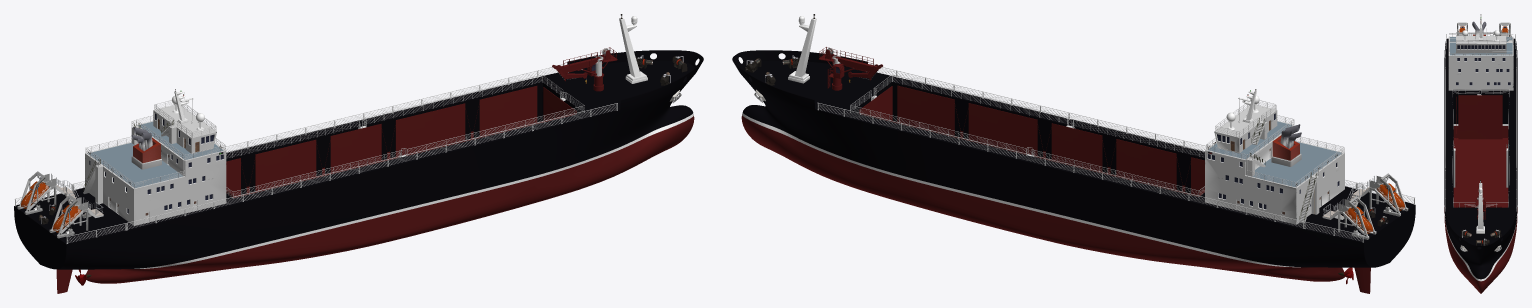
Rendered from cargo_ship_empty.glb.
3 views of the same model, side by side, from view 1: azimuth 30°, elevation 25°; view 2: azimuth 150°, elevation 25°; view 3: azimuth 270°, elevation 25° (orthographic). The views are drawn at different scales.
Visible parts, largest first — view 1: Object_70, Object_47, Object_22, Object_57, Object_44, Object_18, Object_34, Object_13, Object_68, Object_58, Object_55, Object_37 (+5 smaller); view 2: Object_70, Object_47, Object_22, Object_57, Object_18, Object_34, Object_44, Object_13, Object_68, Object_55, Object_58, Object_37 (+6 smaller); view 3: Object_70, Object_47, Object_22, Object_44, Object_13, Object_34, Object_39, Object_18, Object_57, Object_37, Object_61, Object_68 (+9 smaller).
Boxes of the visible parts, x1,y1,x2,y2 form: Object_70: (14,50,703,269); Object_47: (86,51,694,283); Object_22: (85,105,226,225); Object_57: (15,64,617,243); Object_44: (56,47,616,293); Object_18: (87,121,223,187); Object_34: (24,16,693,268); Object_13: (85,100,225,188); Object_68: (17,56,603,238); Object_58: (362,74,563,127); Object_55: (401,91,584,156); Object_37: (177,17,652,102); Object_70: (732,50,1415,267); Object_47: (741,51,1344,281); Object_22: (1205,105,1344,224); Object_57: (817,64,1414,242); Object_18: (1208,121,1341,187); Object_34: (742,16,1402,267); Object_44: (819,47,1370,293); Object_13: (1206,100,1344,187); Object_68: (832,55,1408,239); Object_55: (873,74,1071,126); Object_58: (850,90,1032,155); Object_37: (782,18,1254,101); Object_70: (1444,38,1517,279); Object_47: (1444,97,1517,293); Object_22: (1448,34,1513,90); Object_44: (1458,95,1502,215); Object_13: (1449,31,1513,55); Object_34: (1444,30,1517,281); Object_39: (1456,45,1510,85); Object_18: (1450,37,1512,55); Object_57: (1445,34,1516,216); Object_37: (1470,17,1491,235); Object_61: (1453,94,1508,187); Object_68: (1457,22,1510,199).
Size of the model in its own units: 131 by 34.49 by 19.
Materials: 55 (46 with a texture image).
